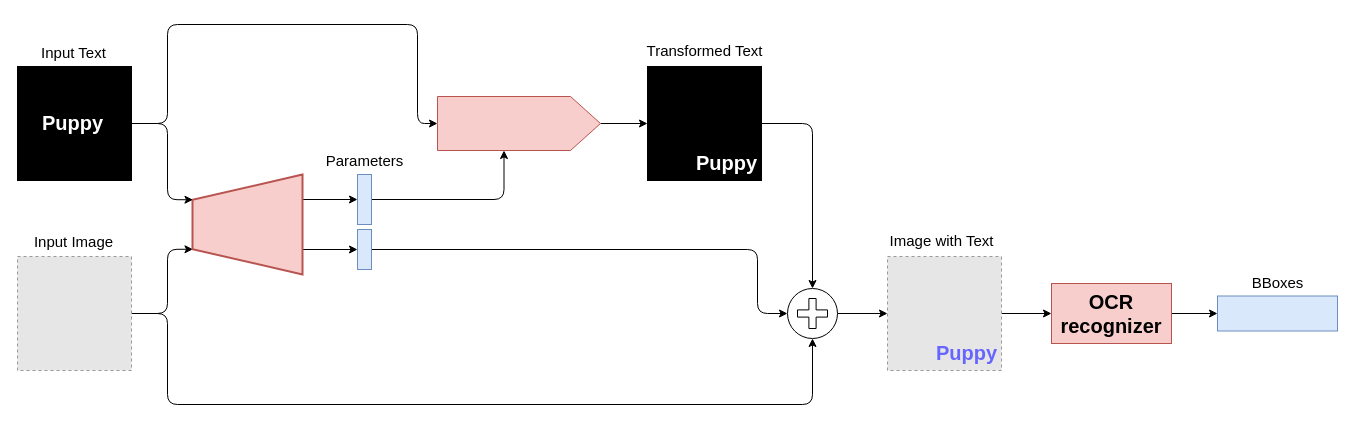
This 1355x430 diagram has some shape labels left out. Grey dashed boxes stand in for pictures. Each missing label, with the centre of its shape:
"Generator" goes at (247,224).
"Mover" goes at (518,123).
